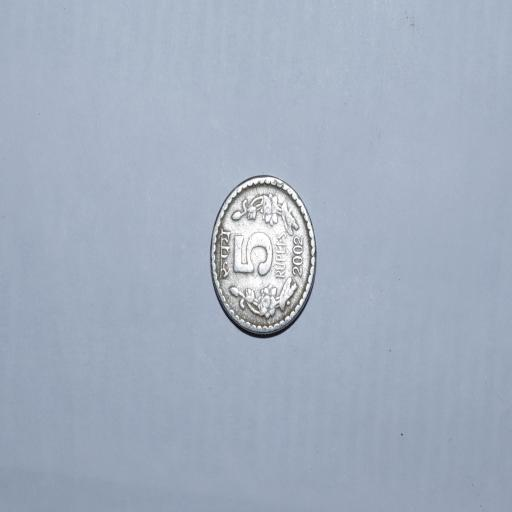rupee5: (207, 171, 320, 338)
